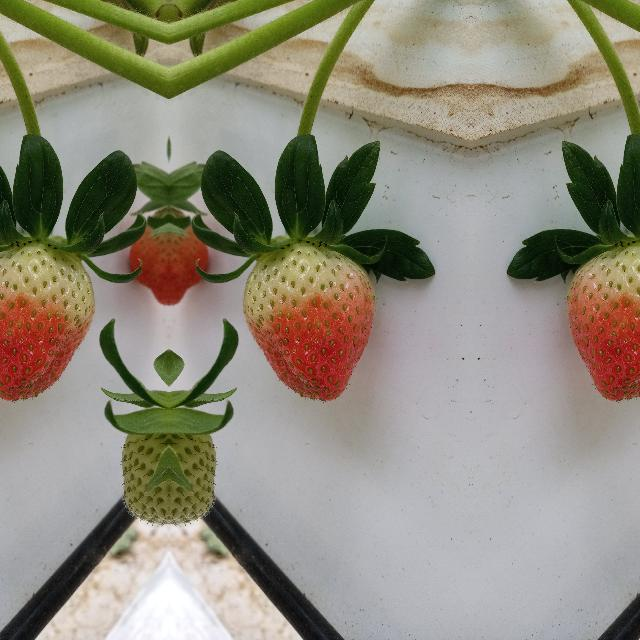Health_100: (241, 242, 377, 404), (0, 242, 95, 404), (564, 242, 640, 404)
Health_25: (168, 370, 220, 550), (116, 370, 168, 550)
